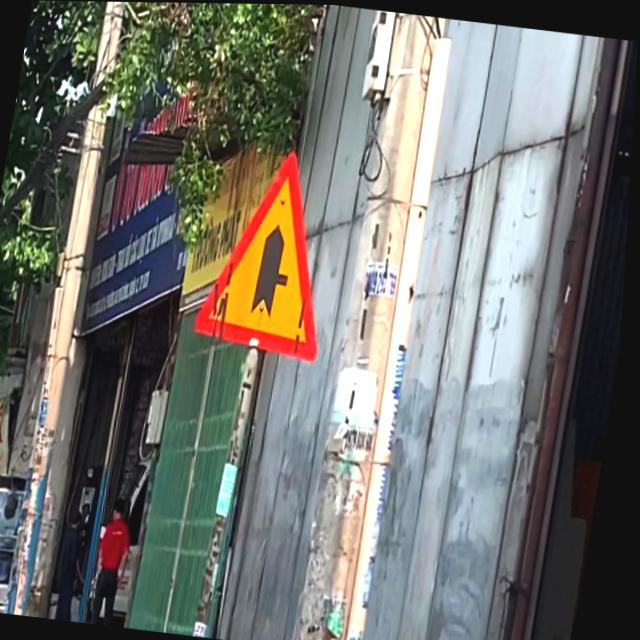Giao nhau voi duong khong uu tien ben phai: (191, 137, 354, 364)
